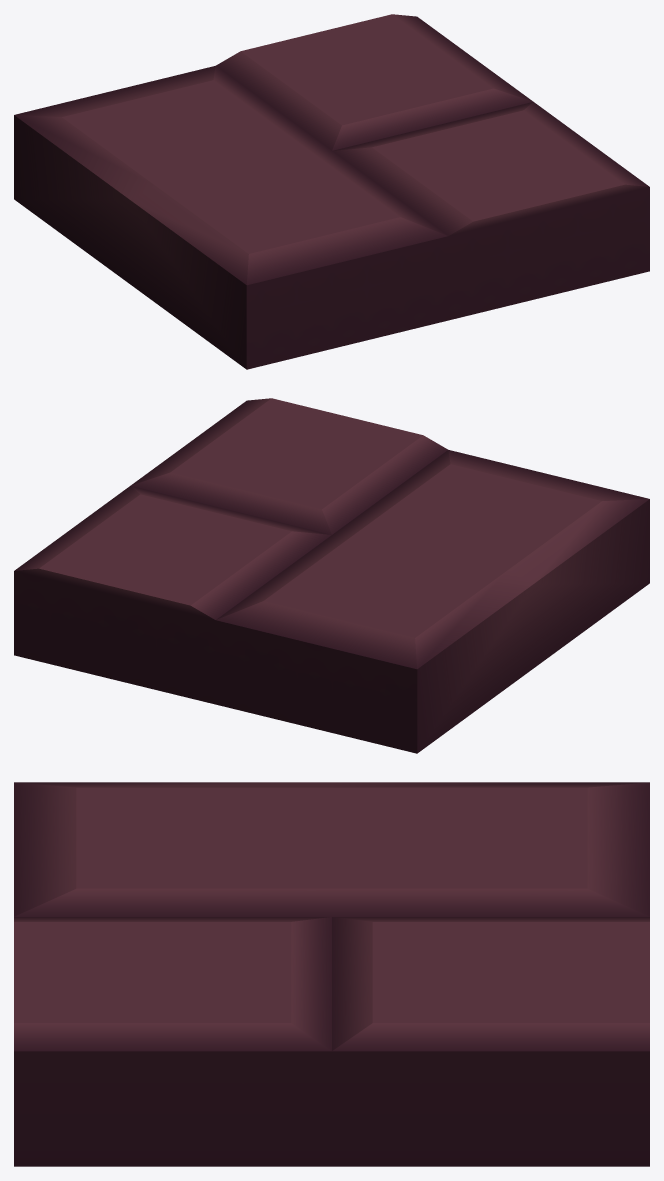
Rendered from tileBase2_mesh.fbx.
The picture shows the model from 3 angles, top to bottom: view 1: azimuth 30°, elevation 25°; view 2: azimuth 150°, elevation 25°; view 3: azimuth 270°, elevation 25°; orthographic projection. The views are drawn at different scales.
Parts seen in each view (by area): view 1: tileBase2_mesh; view 2: tileBase2_mesh; view 3: tileBase2_mesh.
Part boxes in pixels (<box>): tileBase2_mesh: <box>14,14,649,369</box>; tileBase2_mesh: <box>14,398,649,753</box>; tileBase2_mesh: <box>14,782,649,1166</box>.
Size of the model in its own units: 100 by 22 by 100.
